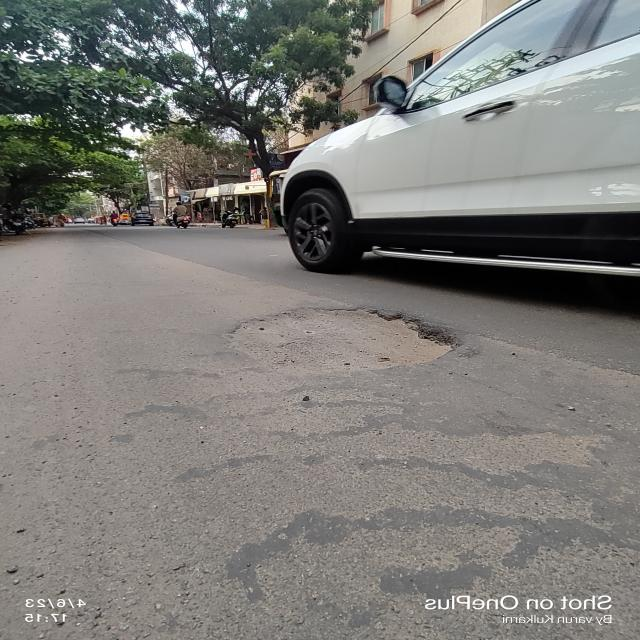potholes: (231, 303, 464, 387)
